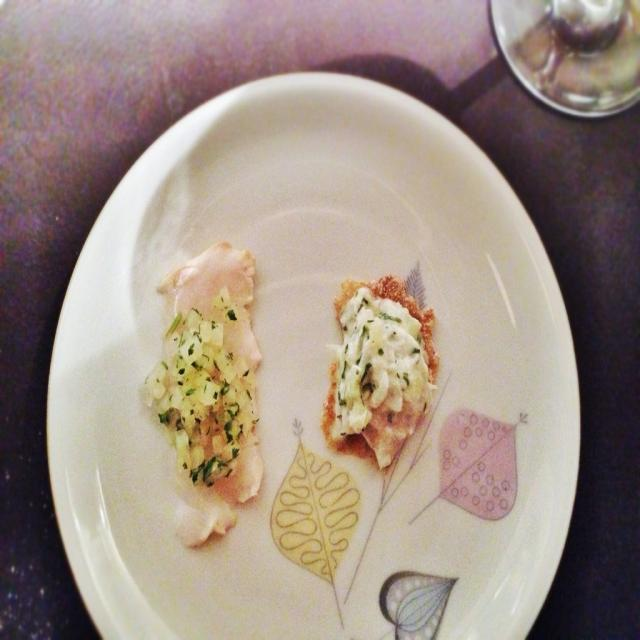non-organic waste: (46, 63, 584, 640)
